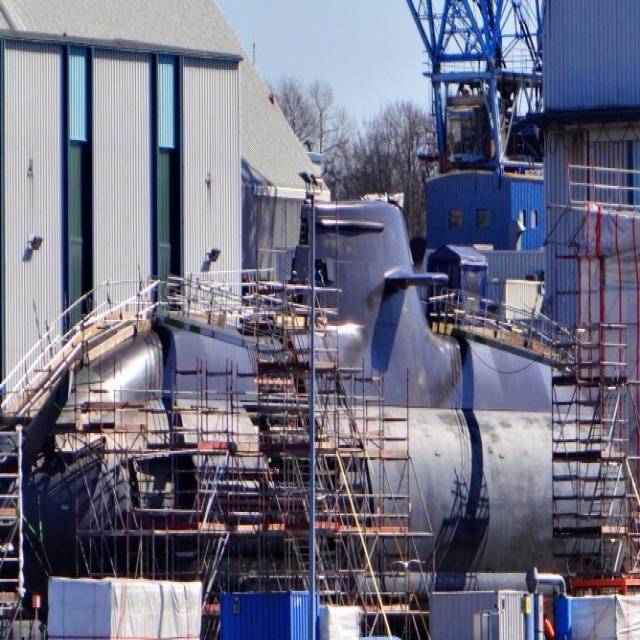submarine: (1, 203, 634, 570)
